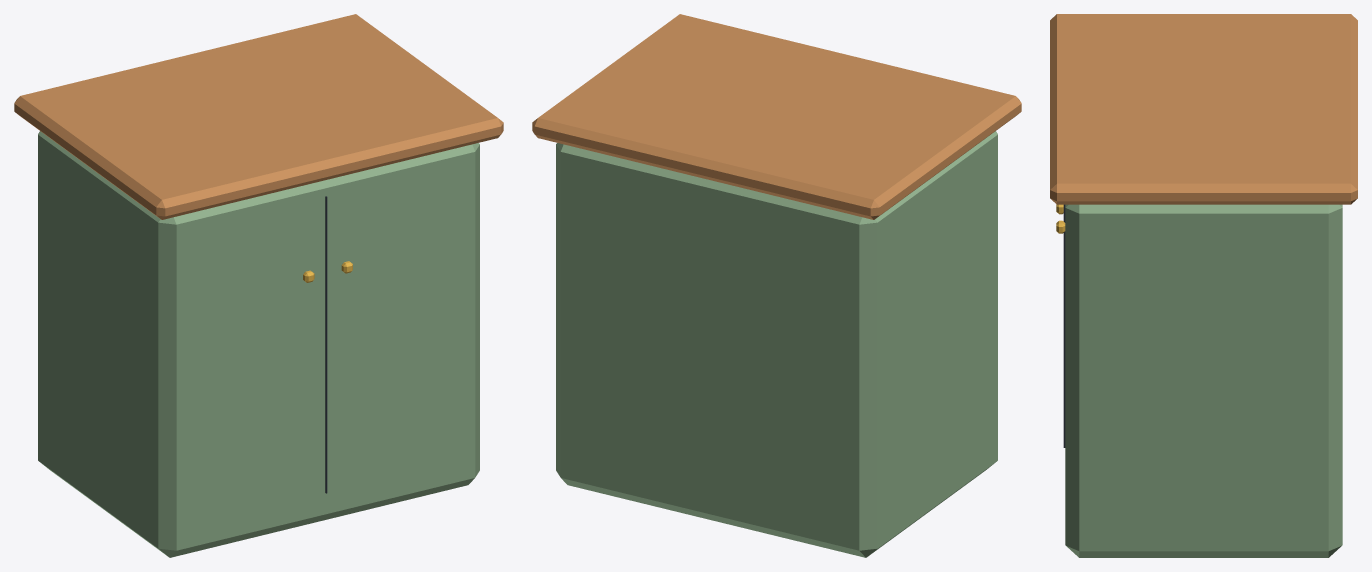
File: cabinet_small.glb
3 views of the same model, side by side, from view 1: azimuth 30°, elevation 25°; view 2: azimuth 150°, elevation 25°; view 3: azimuth 270°, elevation 25° (orthographic). The views are drawn at different scales.
Visible parts, largest first — view 1: body, top, door_line; view 2: body, top; view 3: body, top, door_line.
Part boxes in pixels (left/top/right/bottom): body: left=38, top=131, right=479, bottom=557; top: left=14, top=14, right=503, bottom=219; door_line: left=325, top=196, right=327, bottom=493; body: left=556, top=131, right=997, bottom=557; top: left=532, top=14, right=1021, bottom=219; body: left=1065, top=204, right=1342, bottom=557; top: left=1050, top=14, right=1357, bottom=204; door_line: left=1063, top=204, right=1065, bottom=447.
Size of the model in its own units: 0.54 by 0.55 by 0.4.
